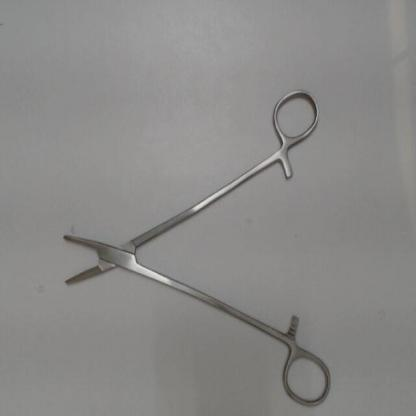8 Mayo Needle Holder: (54, 82, 335, 414)
